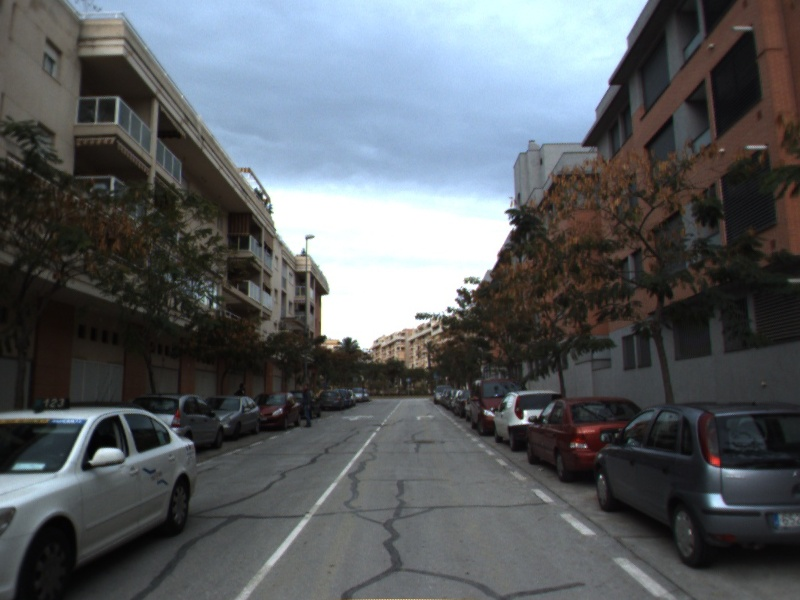RIGHT: (413, 412, 437, 423)
